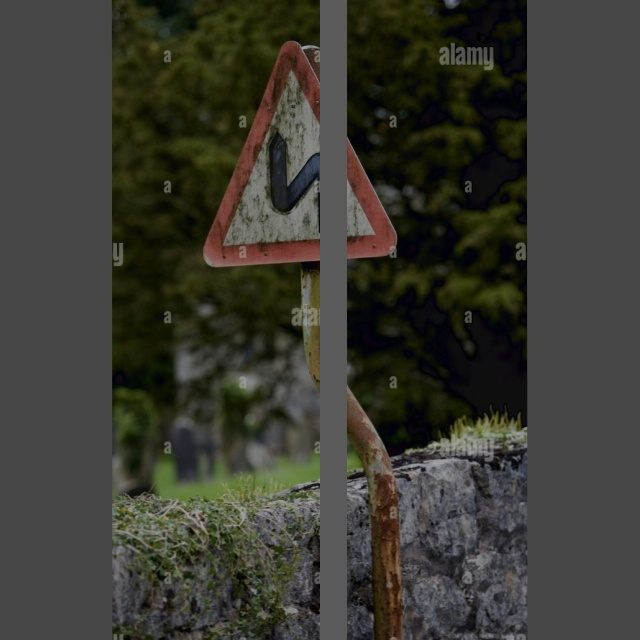Left_Reverse_Bend: (201, 40, 401, 264)
